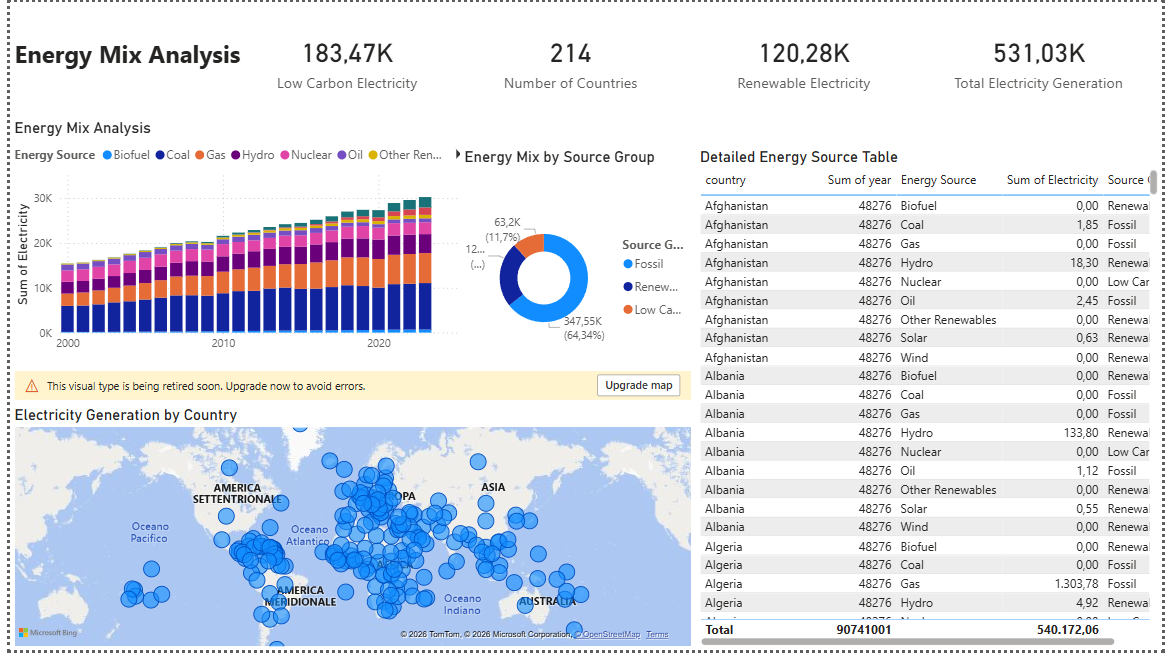

What the dashboard file says about the page in this screenshot:
{"tool":"powerbi","page":{"name":"Energy Mix Analysis","canvas":[1280,720],"ordinal":1},"visuals":[{"type":"card","fields":{"Values":["Energy.Total Electricity Generation"]},"box":[1005,0,275,130],"z":0},{"type":"card","fields":{"Values":["Energy.Renewable Electricity"]},"box":[758.3,0,246.7,130],"z":1},{"type":"card","fields":{"Values":["Energy.Low Carbon Electricity"]},"box":[248.3,0,251.7,130],"z":2},{"type":"card","fields":{"Values":["Energy.Number of Countries"]},"box":[486.7,0,271.7,130],"z":3},{"type":"columnChart","title":"Energy Mix Analysis","fields":{"Category":["energy mix.year"],"Y":["Sum(energy mix.Electricity)"],"Series":["energy mix.Energy Source"]},"box":[0,130,515,280],"z":4},{"type":"donutChart","title":"Energy Mix by Source Group","fields":{"Y":["Sum(energy mix.Electricity)"],"Category":["energy mix.Source Group"]},"box":[500,161.7,261.7,270],"z":5},{"type":"map","title":"Electricity Generation by Country","fields":{"Category":["energy mix.country"],"Size":["Energy.Total Electricity Generation"]},"box":[0,410,761.7,310],"z":6},{"type":"tableEx","title":"Detailed Energy Source Table","fields":{"Values":["energy mix.country","Sum(energy mix.year)","energy mix.Energy Source","Sum(energy mix.Electricity)","energy mix.Source Group"]},"box":[761.7,161.7,518.3,558.3],"z":7},{"type":"textbox","box":[0,33.3,295,61.7],"z":8}]}

Visuals, with their boxes in screenshot pixels (x1, y1, x2, y2), scaled from the page's 1280x720 canvas onto the 1173x658 screenshot:
card - Energy.Total Electricity Generation: [x1=921, y1=0, x2=1172, y2=119]
card - Energy.Renewable Electricity: [x1=695, y1=0, x2=921, y2=119]
card - Energy.Low Carbon Electricity: [x1=228, y1=0, x2=458, y2=119]
card - Energy.Number of Countries: [x1=446, y1=0, x2=695, y2=119]
"Energy Mix Analysis" columnChart: [x1=0, y1=119, x2=472, y2=375]
"Energy Mix by Source Group" donutChart: [x1=458, y1=148, x2=698, y2=395]
"Electricity Generation by Country" map: [x1=0, y1=375, x2=698, y2=657]
"Detailed Energy Source Table" tableEx: [x1=698, y1=148, x2=1172, y2=657]
textbox: [x1=0, y1=30, x2=270, y2=87]
